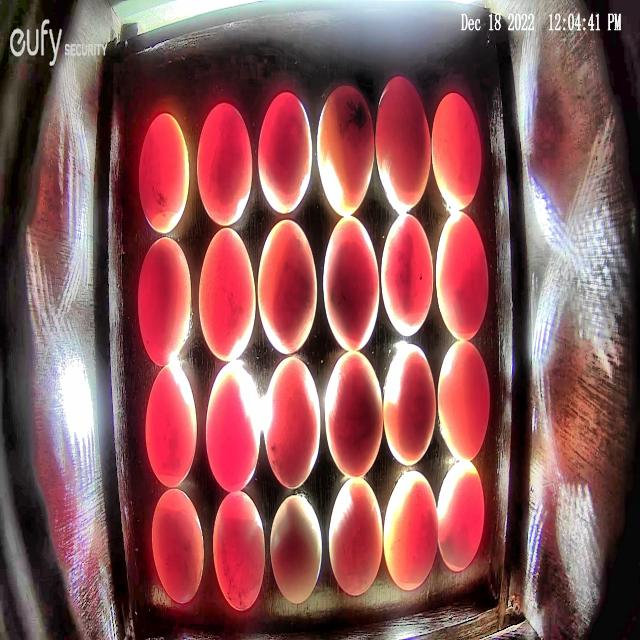FE: (257, 218, 318, 356), (374, 74, 432, 212), (198, 226, 256, 362), (316, 85, 375, 216), (323, 214, 379, 352), (263, 356, 321, 489), (324, 351, 384, 479), (434, 210, 489, 342), (136, 236, 191, 366), (206, 362, 260, 493), (197, 102, 253, 227), (257, 90, 313, 214), (383, 469, 438, 592), (383, 342, 436, 467), (212, 490, 266, 611), (381, 214, 434, 337), (328, 477, 382, 597), (145, 364, 197, 488), (138, 113, 190, 235), (151, 487, 205, 604), (431, 91, 483, 211), (438, 340, 489, 462), (270, 493, 322, 604), (437, 459, 485, 571)
